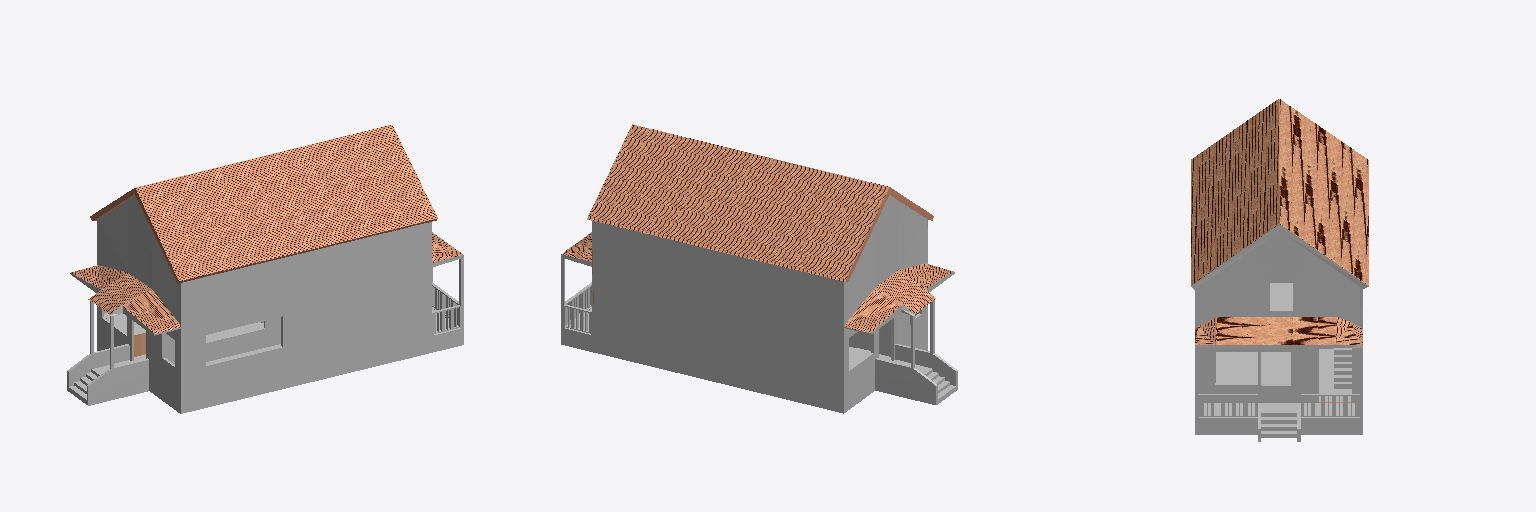
3 renders of one model, left to right at view 1: azimuth 30°, elevation 25°; view 2: azimuth 150°, elevation 25°; view 3: azimuth 270°, elevation 25°, orthographic.
Visible parts, largest first — view 1: Casa; view 2: Casa; view 3: Casa.
Part boxes in pixels (bbox=[...]): Casa: bbox=[67, 125, 463, 413]; Casa: bbox=[561, 124, 957, 413]; Casa: bbox=[1191, 99, 1368, 441].
Bounding box in the file's own units: 62.55 × 32.9 × 27.07.
16 materials, 2 textured.